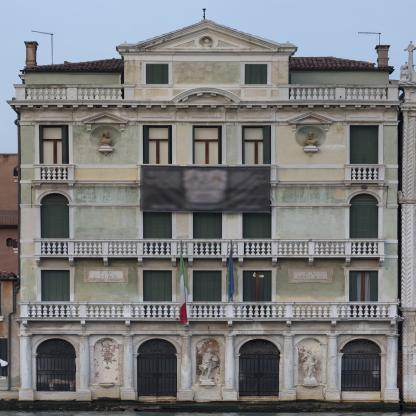Balcony: (18, 301, 400, 321), (32, 238, 388, 258), (277, 84, 401, 101), (13, 84, 136, 101), (31, 163, 78, 183), (341, 164, 388, 183)
Cornice: (138, 25, 276, 49), (81, 111, 130, 131), (287, 111, 335, 131), (174, 91, 240, 103)
Deco: (195, 338, 220, 384), (298, 338, 322, 384), (94, 338, 118, 384), (302, 131, 320, 156), (97, 131, 114, 156), (90, 271, 124, 279), (294, 272, 328, 280)
Door: (239, 354, 279, 396), (137, 354, 177, 396), (342, 354, 381, 392), (36, 354, 76, 391), (350, 206, 379, 255), (40, 205, 69, 254), (143, 206, 172, 255), (193, 206, 222, 255), (243, 206, 272, 255), (41, 270, 70, 317), (243, 271, 272, 318), (193, 271, 222, 318), (349, 271, 378, 317), (143, 271, 172, 317), (40, 139, 69, 180), (143, 139, 172, 180), (193, 139, 222, 180), (350, 140, 379, 180), (242, 140, 271, 180)
Facade: (6, 19, 404, 403)
Floor: (19, 180, 398, 259), (19, 105, 398, 184), (19, 259, 398, 334), (19, 48, 398, 105)
Floor Slab: (19, 101, 398, 105), (20, 255, 399, 259), (19, 180, 398, 184), (19, 330, 398, 334)
Ground Floor: (19, 334, 398, 400)
Molding: (6, 101, 404, 109)
Pillar: (77, 334, 92, 400), (222, 334, 237, 400), (281, 334, 296, 400), (325, 334, 340, 400), (178, 334, 193, 400), (19, 334, 34, 400), (384, 334, 398, 400), (121, 334, 135, 400)
Roof: (23, 59, 124, 70), (289, 56, 376, 68)
Sill: (239, 84, 273, 87), (140, 84, 174, 87)
Window: (36, 338, 76, 354), (137, 338, 177, 354), (341, 339, 382, 354), (239, 339, 280, 354), (146, 64, 169, 84), (349, 125, 379, 140), (245, 64, 267, 84), (242, 125, 271, 140), (192, 126, 222, 140), (39, 125, 68, 139), (143, 125, 172, 139), (349, 193, 379, 205), (243, 193, 272, 205), (143, 193, 172, 205), (193, 193, 222, 205)
